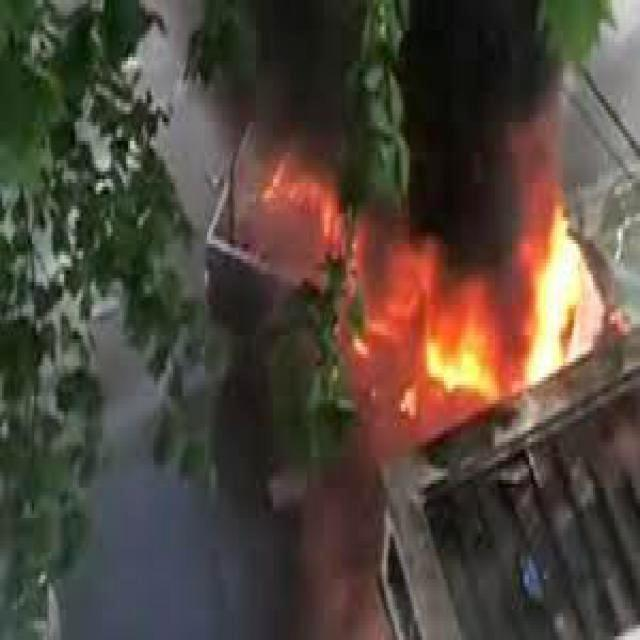fire: (322, 189, 608, 414)
smoke: (406, 12, 544, 180)
